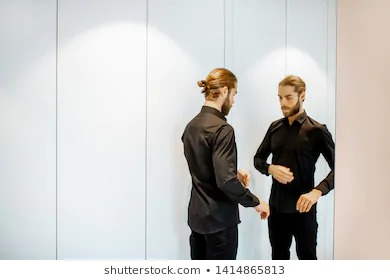C_shirt: (179, 108, 261, 231)
